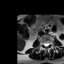CCS_normal: (45, 41, 47, 48)
LFS_normal: (49, 40, 51, 46)
LLS_normal: (47, 41, 49, 47)
RFS_normal: (41, 40, 43, 46)
RLS_normal: (43, 41, 45, 47)
